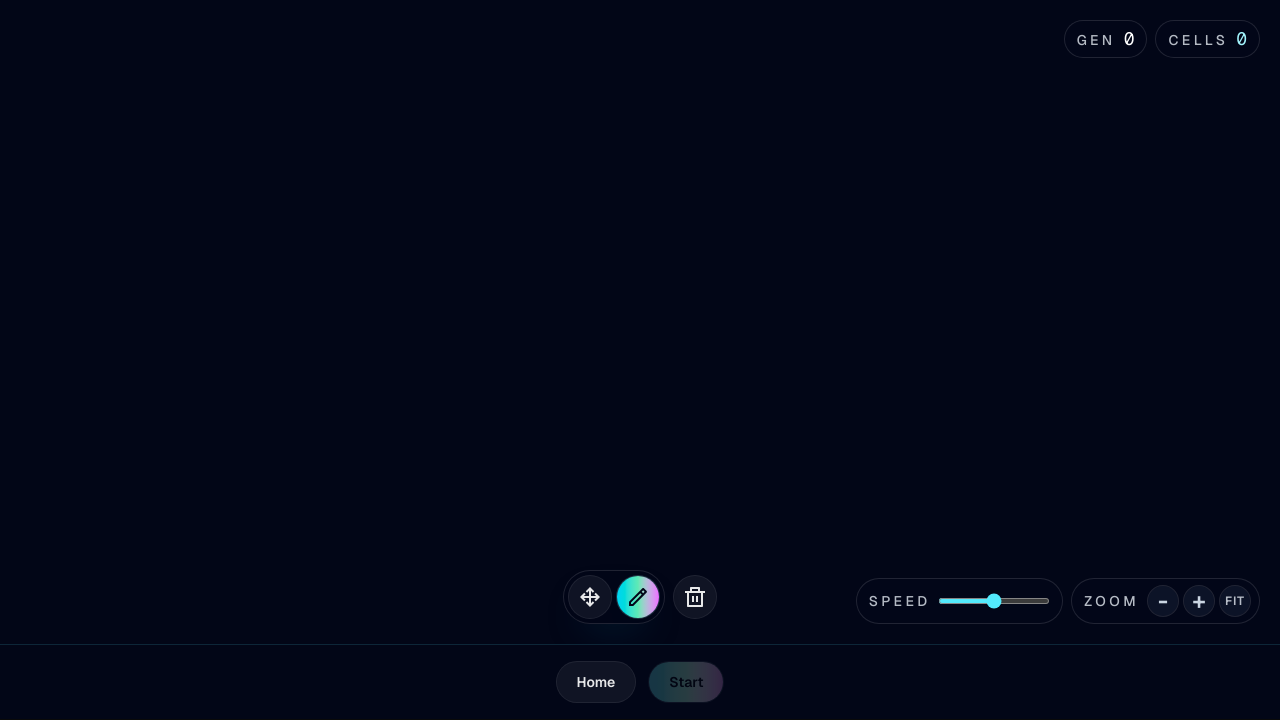
GameOfLifeSession › forgets the saved Playground reset state after clearing the field
This screenshot has width=1280, height=720.
Step 1. Press the mouse on the drawing → (640, 322), box [4,4,1276,640]
(page scrolled)
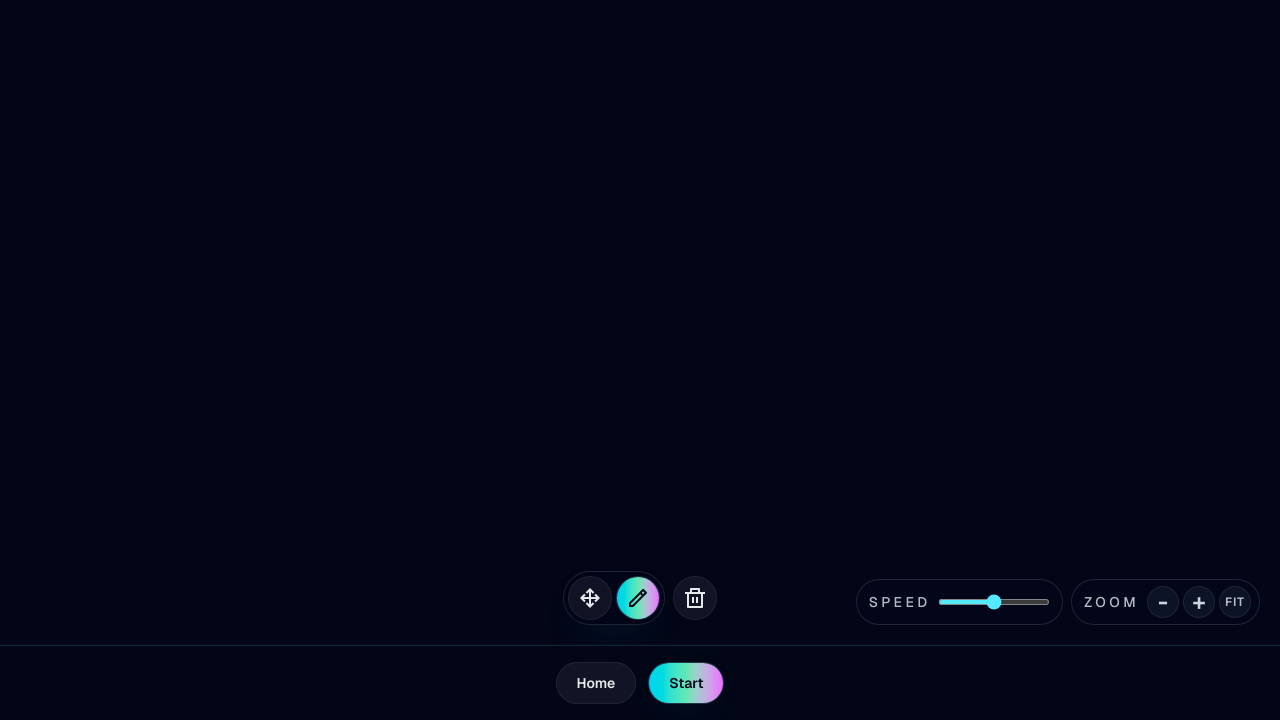
Expected: the button "Start" is enabled
Step 2. Click the button "Start" → (686, 683), box [648,662,724,704]
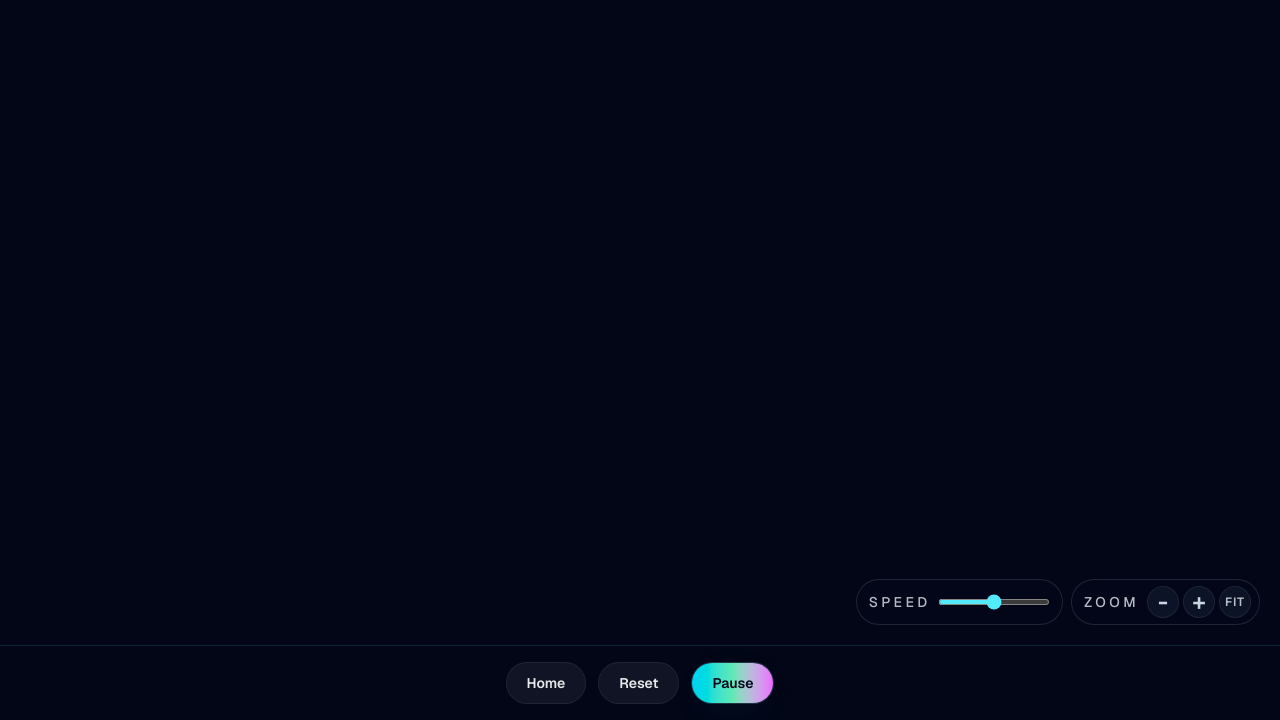
Expected: the button "Reset" is shown, [598,662,679,704]
Step 3. Click the button "Pause" → (733, 683), box [691,662,774,704]
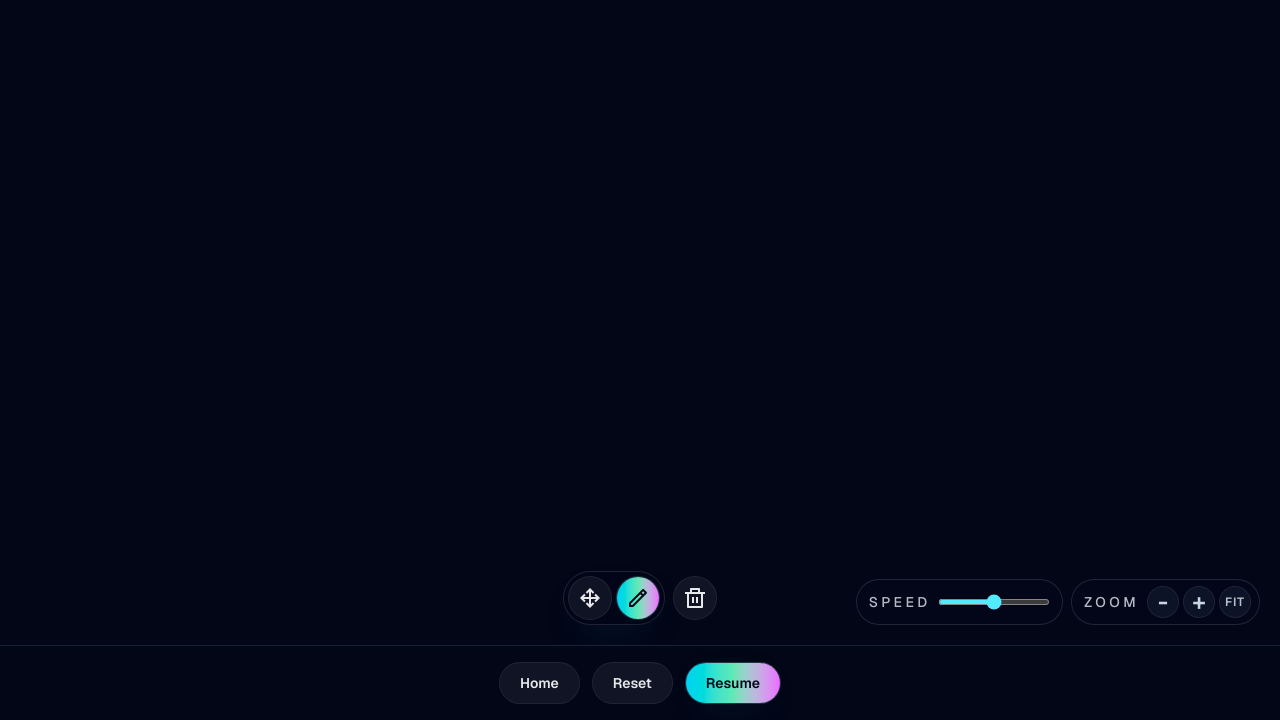
Expected: the button "Resume" is shown, [685,662,781,704]
Step 4. Click the button named "Clear cells" → (695, 598), box [673,576,717,620]
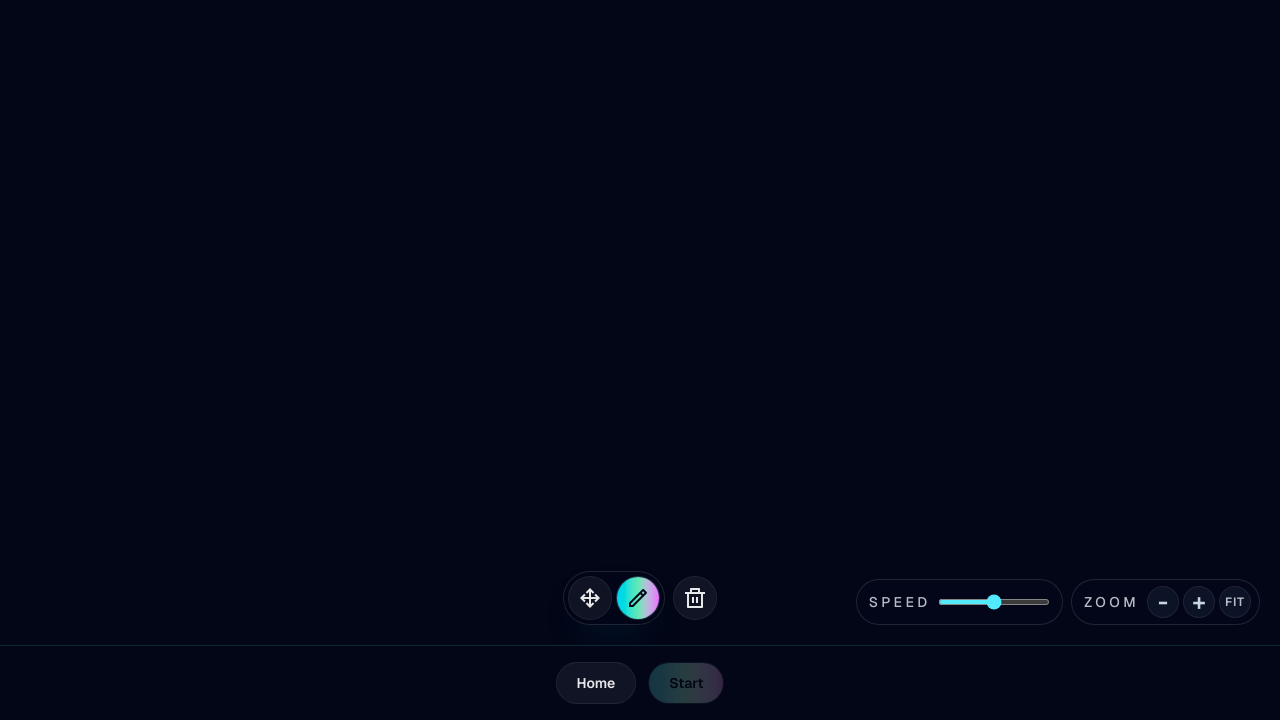
Expected: the button "Reset" is gone
Expected: the button "Start" is disabled, [648,662,724,704]
